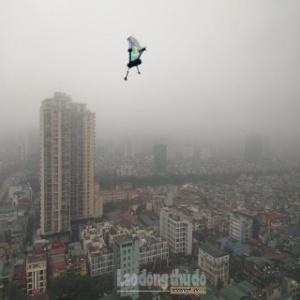drone: (110, 42, 156, 88)
